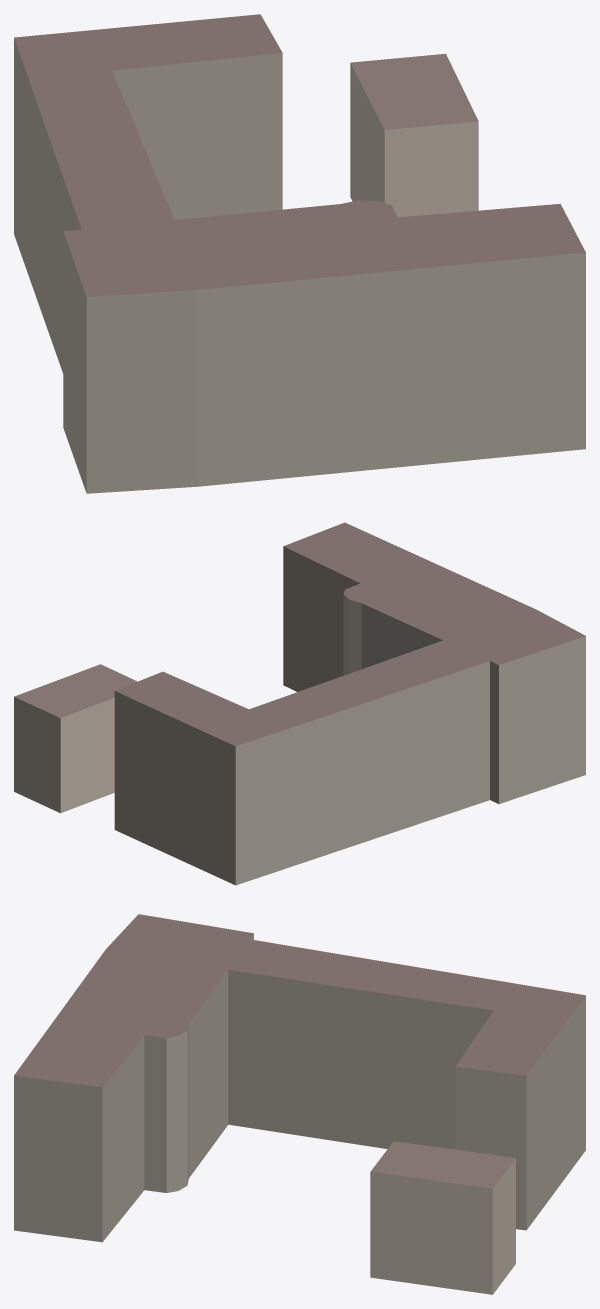
3 views of the same model, one above another, from view 1: azimuth 30°, elevation 25°; view 2: azimuth 150°, elevation 25°; view 3: azimuth 270°, elevation 25° (orthographic). The views are drawn at different scales.
Parts seen in each view (by area): view 1: tuile; view 2: tuile; view 3: tuile.
Boxes of the visible parts, bbox=[...] form: tuile: bbox=[14, 14, 585, 493]; tuile: bbox=[14, 522, 585, 885]; tuile: bbox=[14, 914, 585, 1294].
Bounding box in the file's own units: 45.6 × 14.8 × 49.1.
